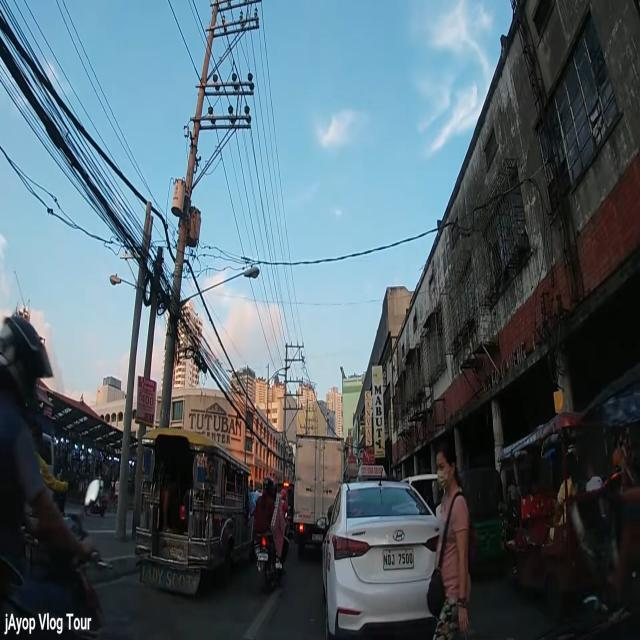car: (326, 462, 442, 638)
jeepney: (136, 432, 252, 594)
motorcycle: (0, 314, 102, 640), (253, 476, 289, 594)
tricycle: (501, 411, 585, 602), (454, 467, 506, 568)
truck: (293, 432, 344, 554)
